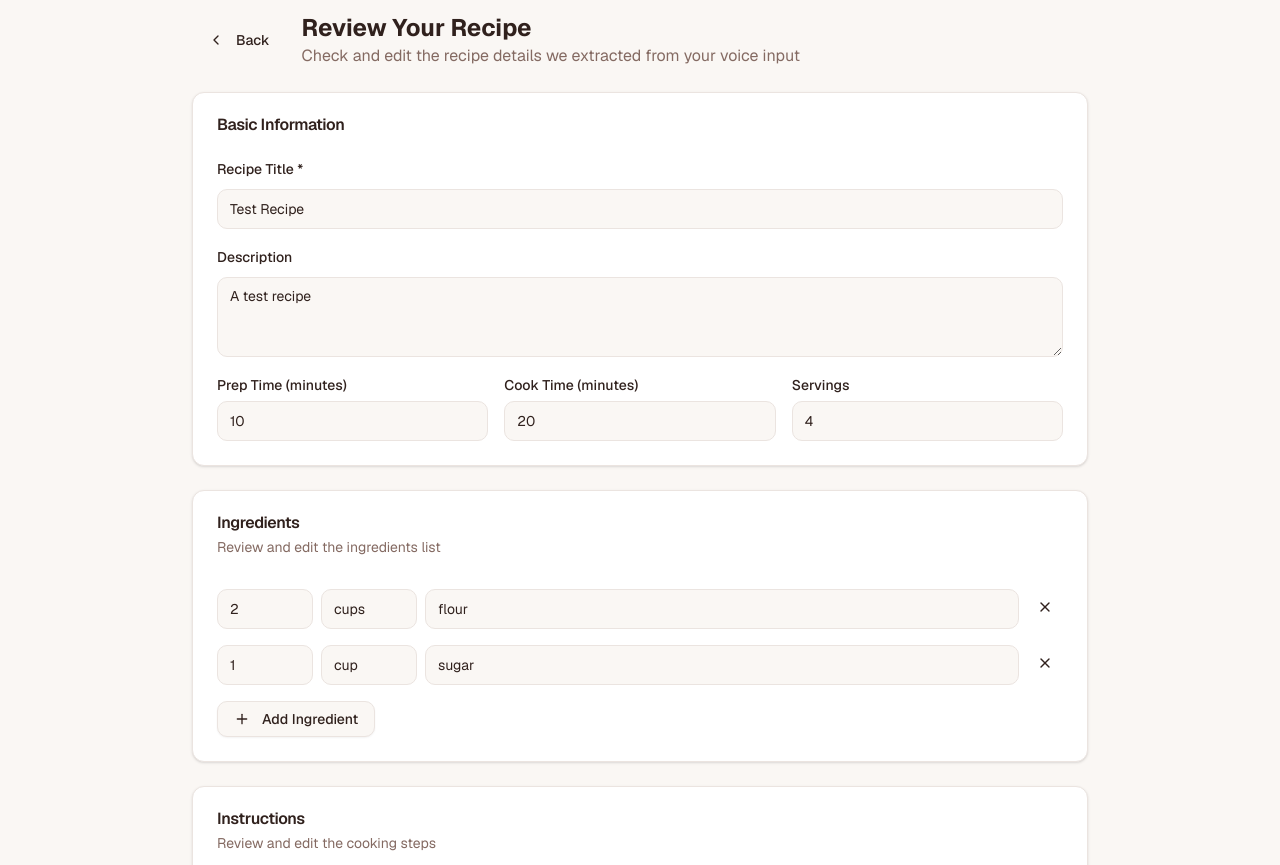
VoiceReviewForm › should add new ingredient
This screenshot has width=1280, height=865.
Click the button "Add Ingredient" at x=296, y=719, box [217,701,375,737]
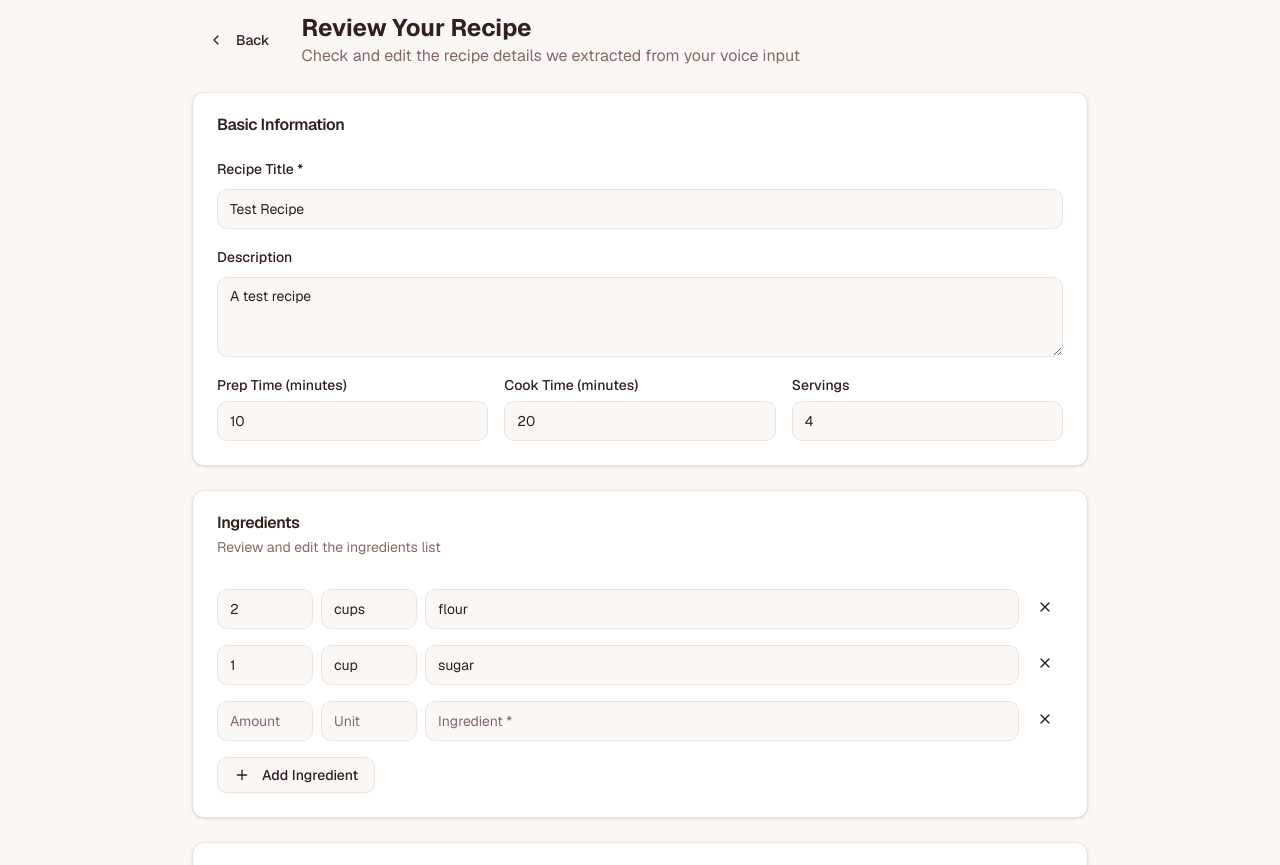
Expected: the number of fields with placeholder "Ingredient *" is 6
